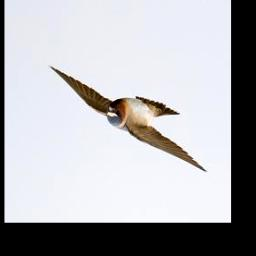Swallow: (49, 67, 209, 177)
